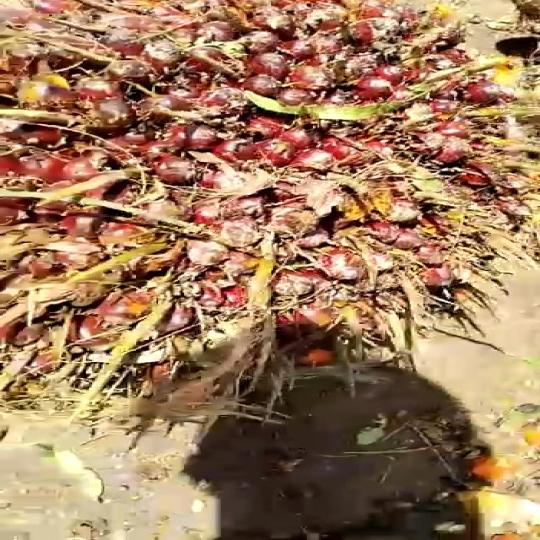masak: (0, 0, 540, 430)
